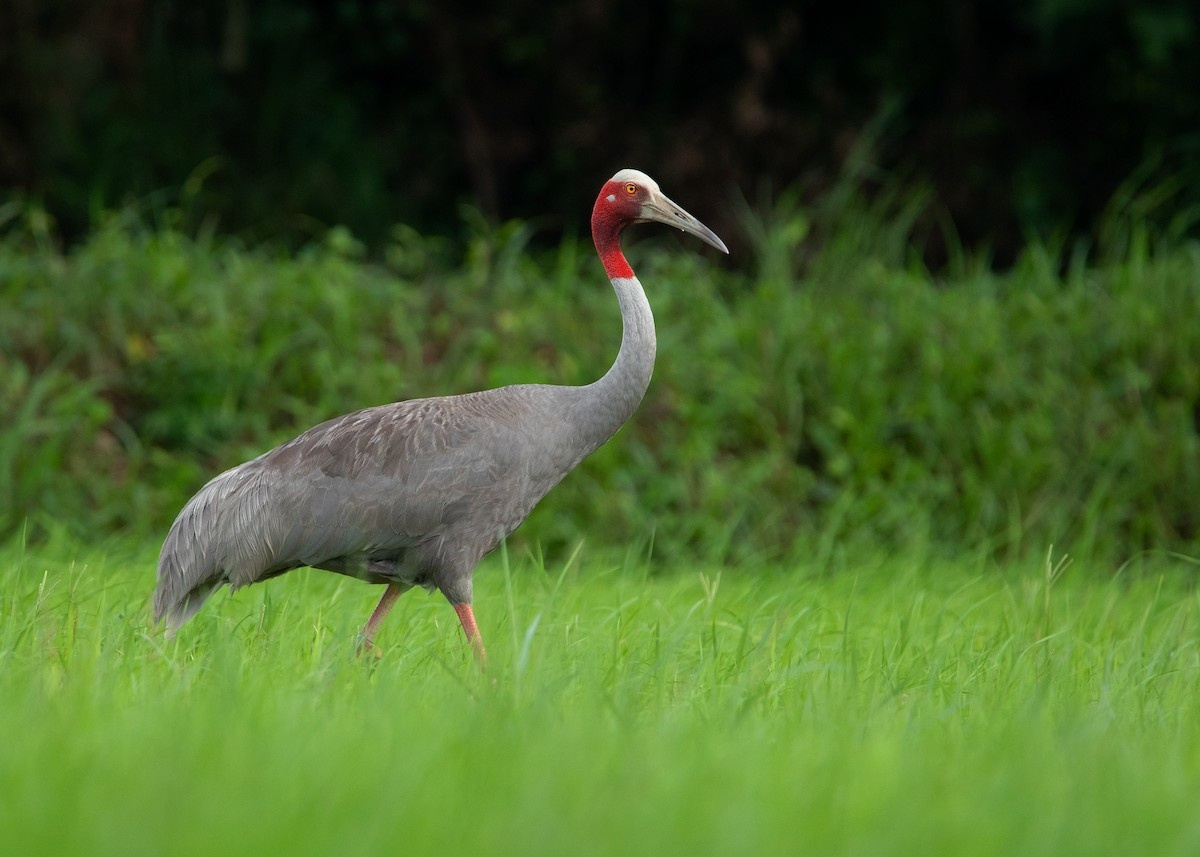crane: (142, 171, 735, 672)
